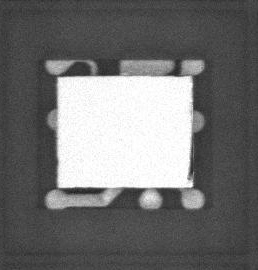DIE_BROKEN: (185, 142, 195, 182)
